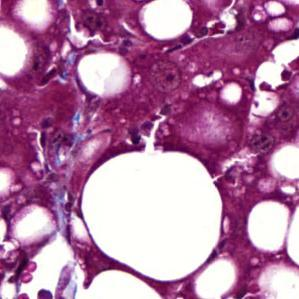steatosis: (77, 148, 231, 284), (77, 51, 135, 97)
